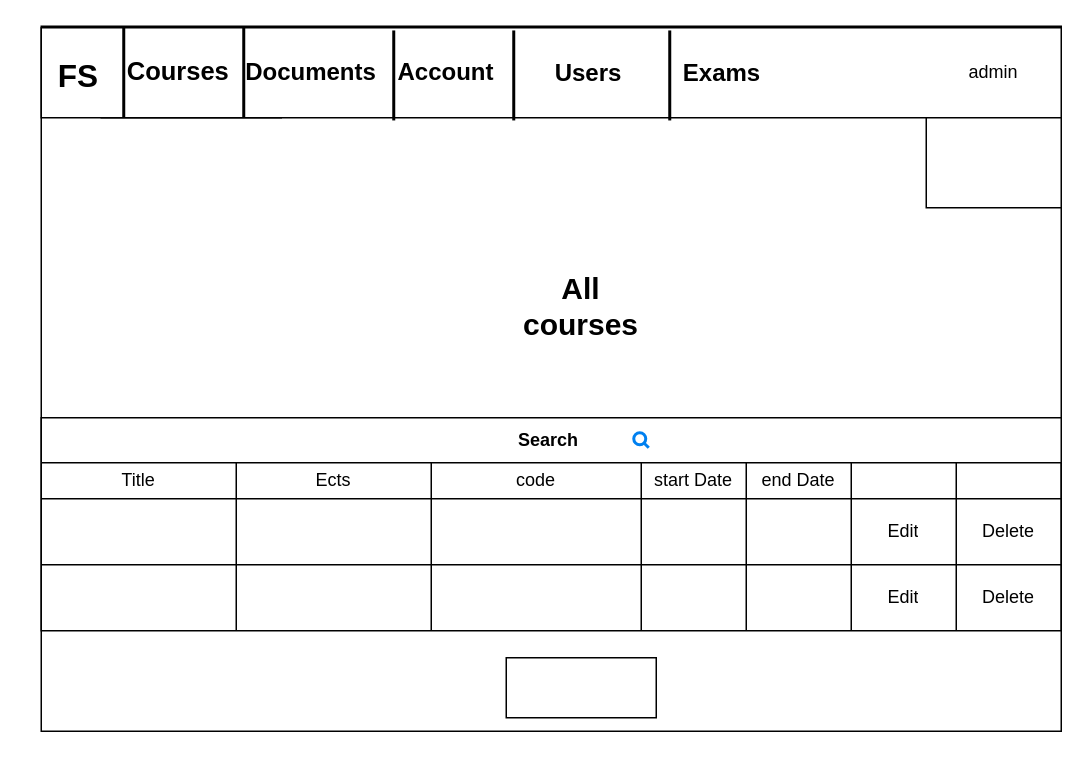
Some shapes in this 1088 by 758 pixel diagram are drawn without their labels. The centre of each missing label's shape, as x and y in pixels:
Add course: point (580, 687)
Logout: point (993, 162)
